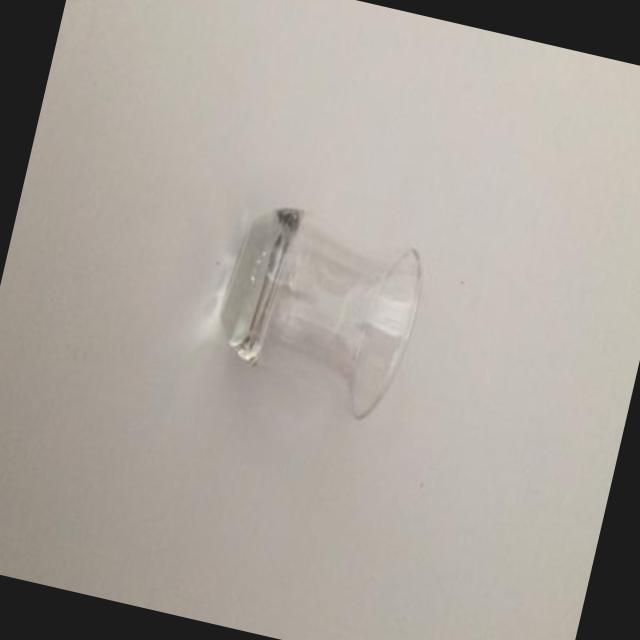chai_thuy_tinh: (220, 209, 421, 421)
